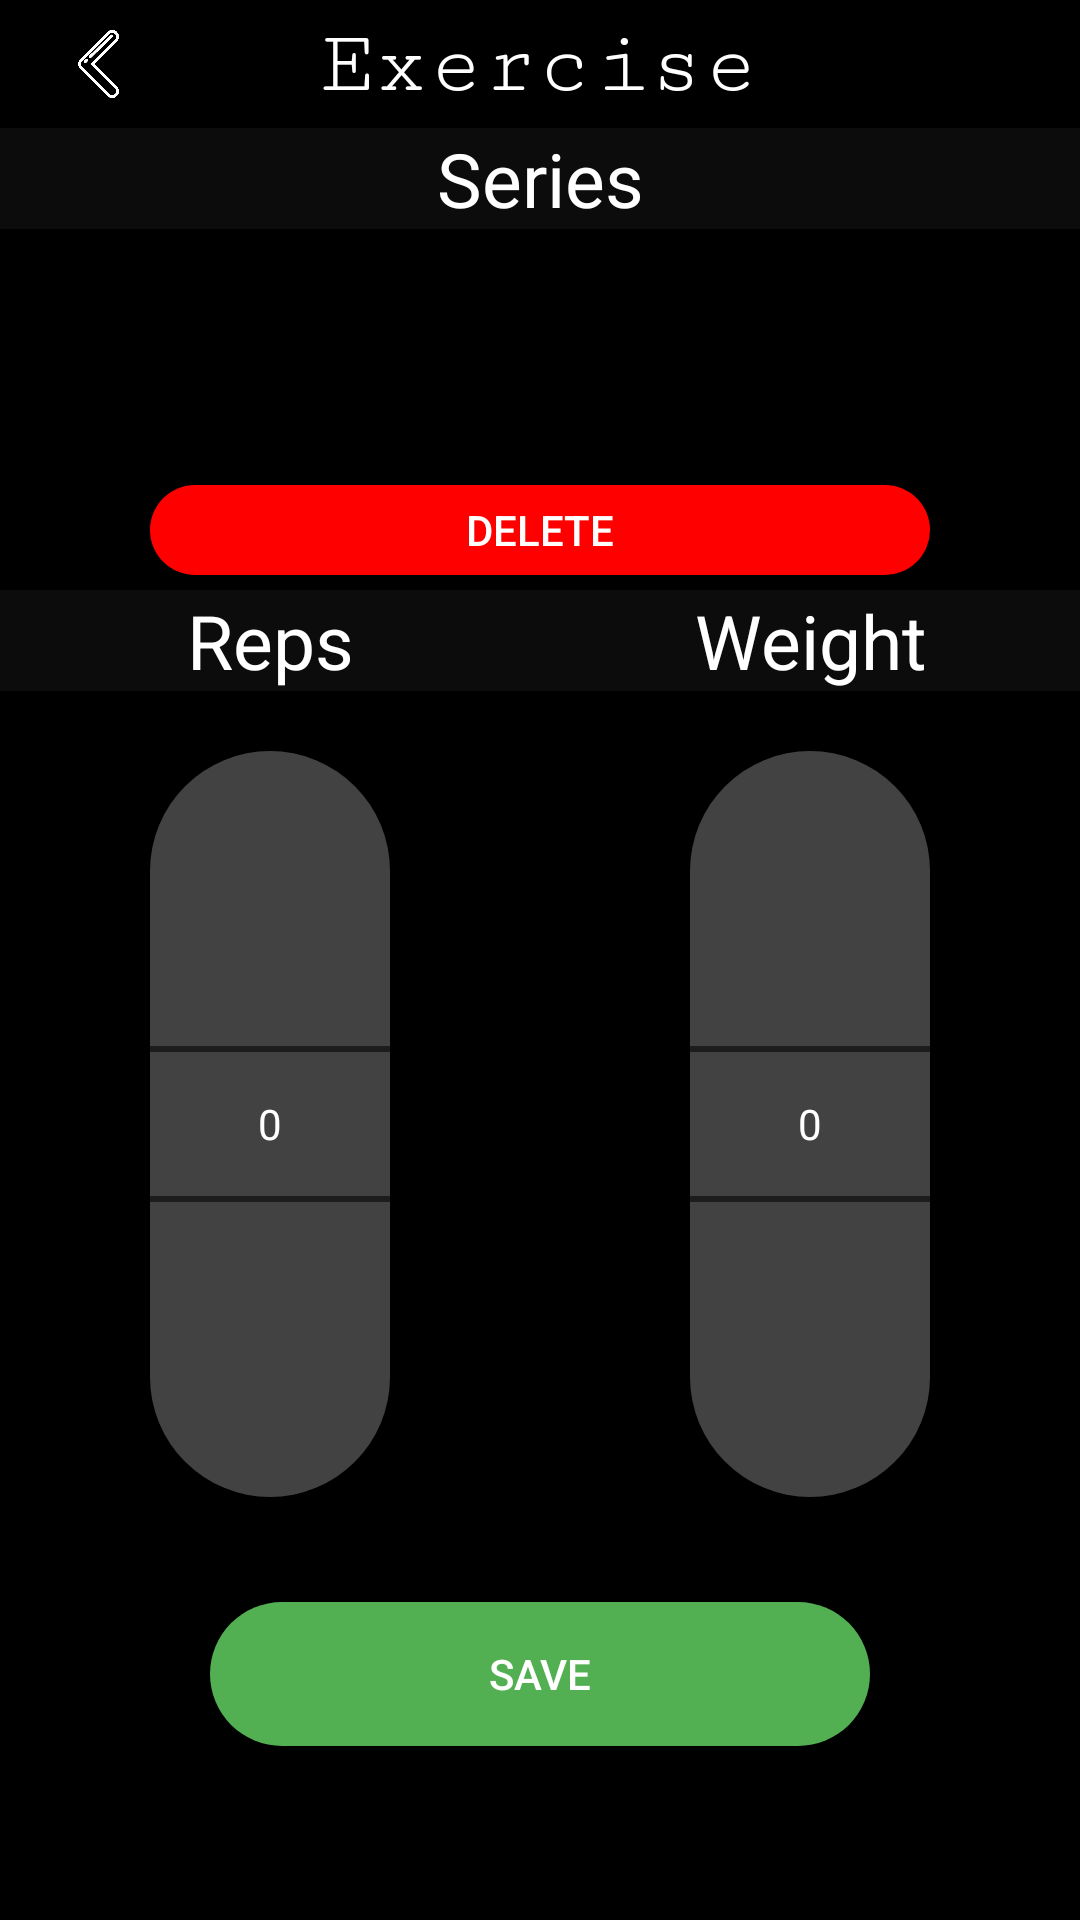

Icon click points for this 1080 x 1920 phone screenshot, format (x=x, y=y):
backward: (x=98, y=64)
